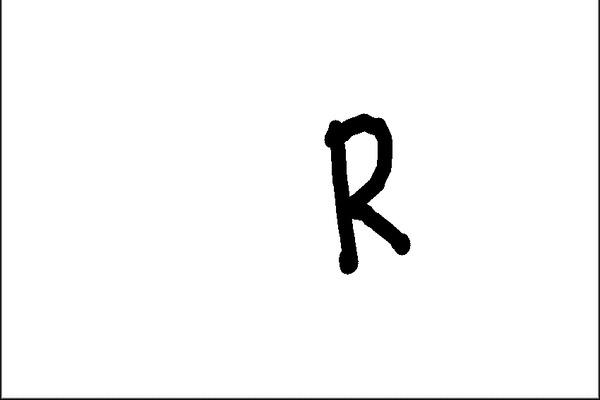R: (309, 105, 425, 277)
